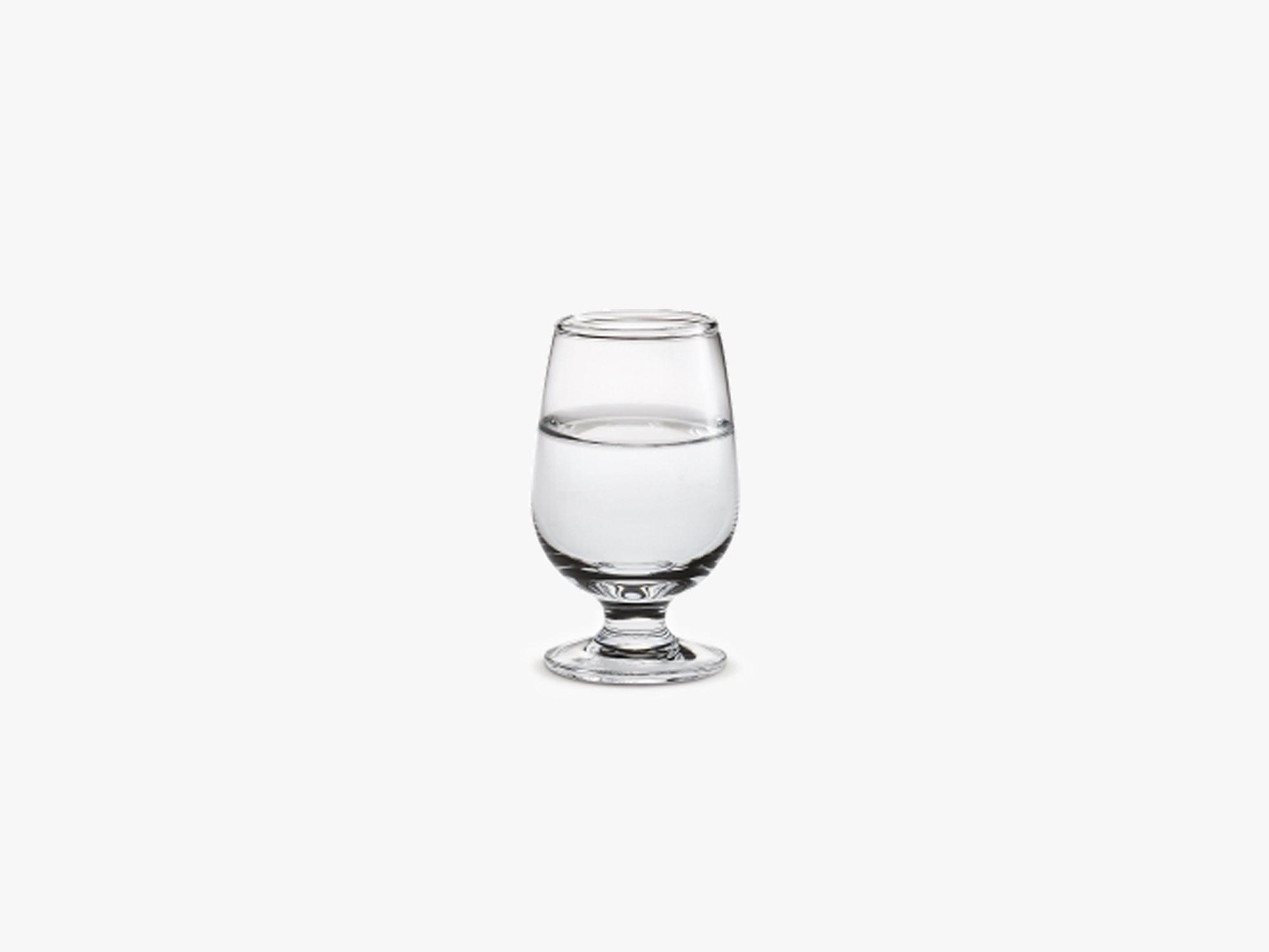glass-wine: (527, 306, 743, 685)
